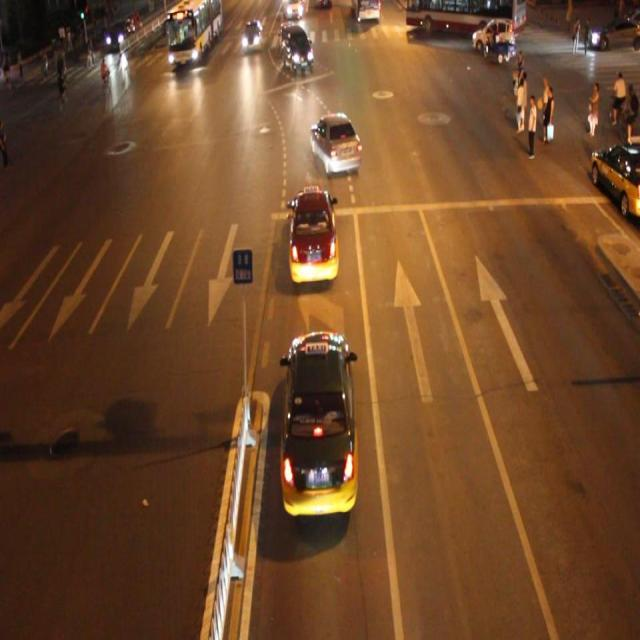car: (279, 327, 359, 512), (287, 188, 339, 284), (311, 112, 361, 174), (280, 28, 314, 75)
van: (166, 1, 222, 65)
